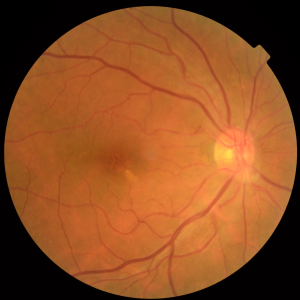retina_disease: (71, 100, 274, 215)
